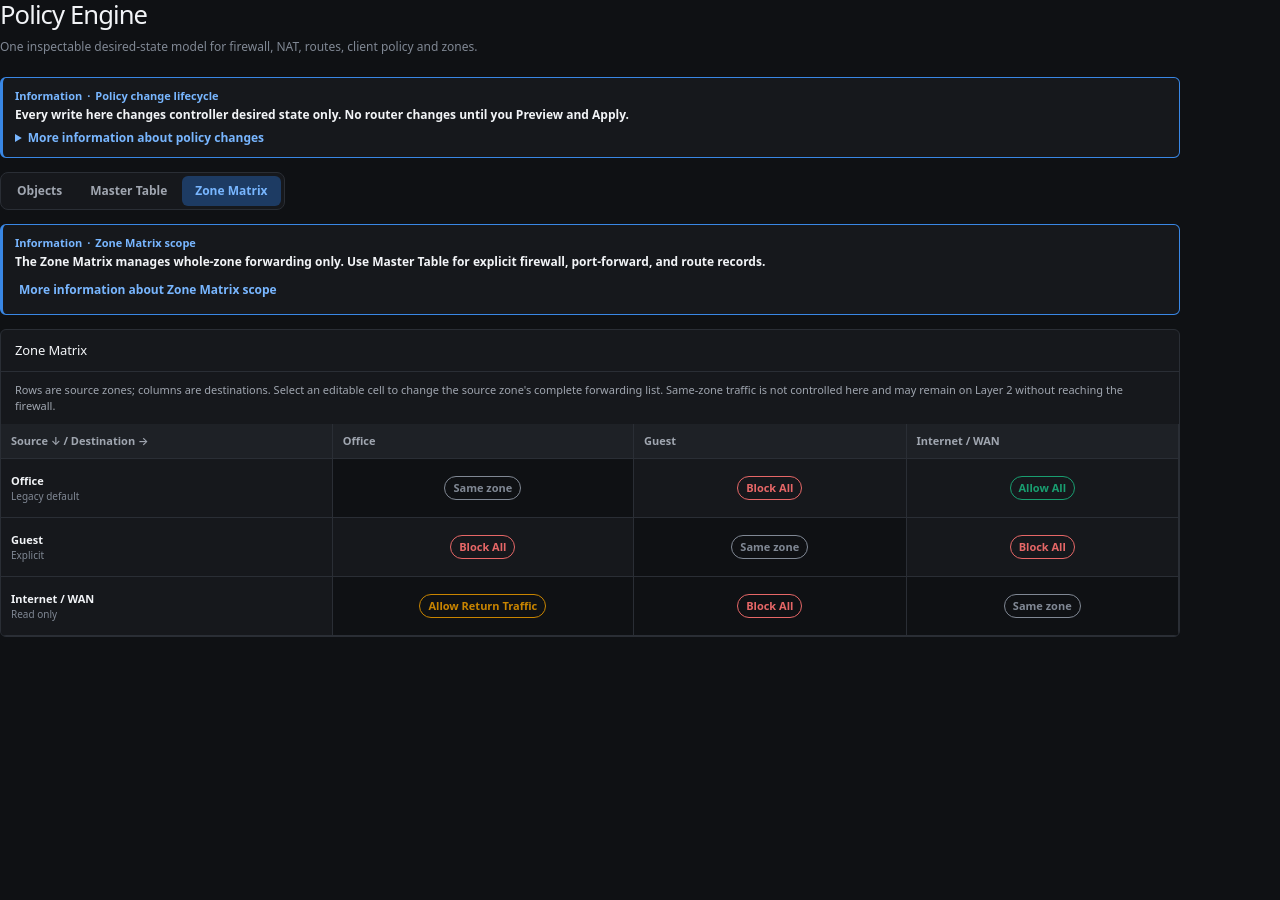
Scenario: Policy Engine › saves the complete source forwarding list from the slide-over
Click the button with aria-label "Office to Guest: Block All. Edit Office policy". click: click(770, 488)
box: [634,459,906,517]
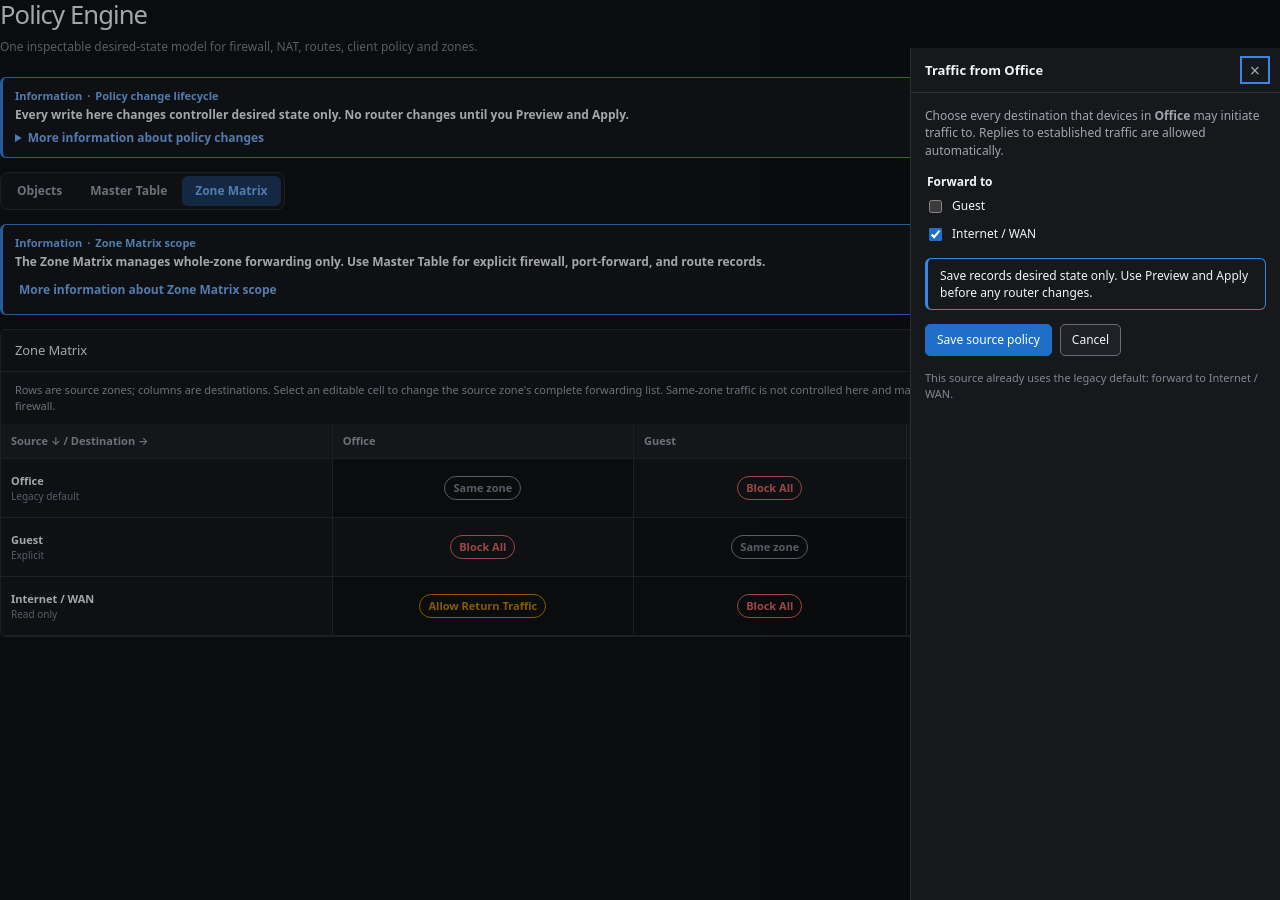
Check: the checkbox labelled "Internet / WAN" is checked, box [929,228,942,241]
Click the checkbox labelled "Guest". click: click(936, 206)
box: [929,200,942,213]
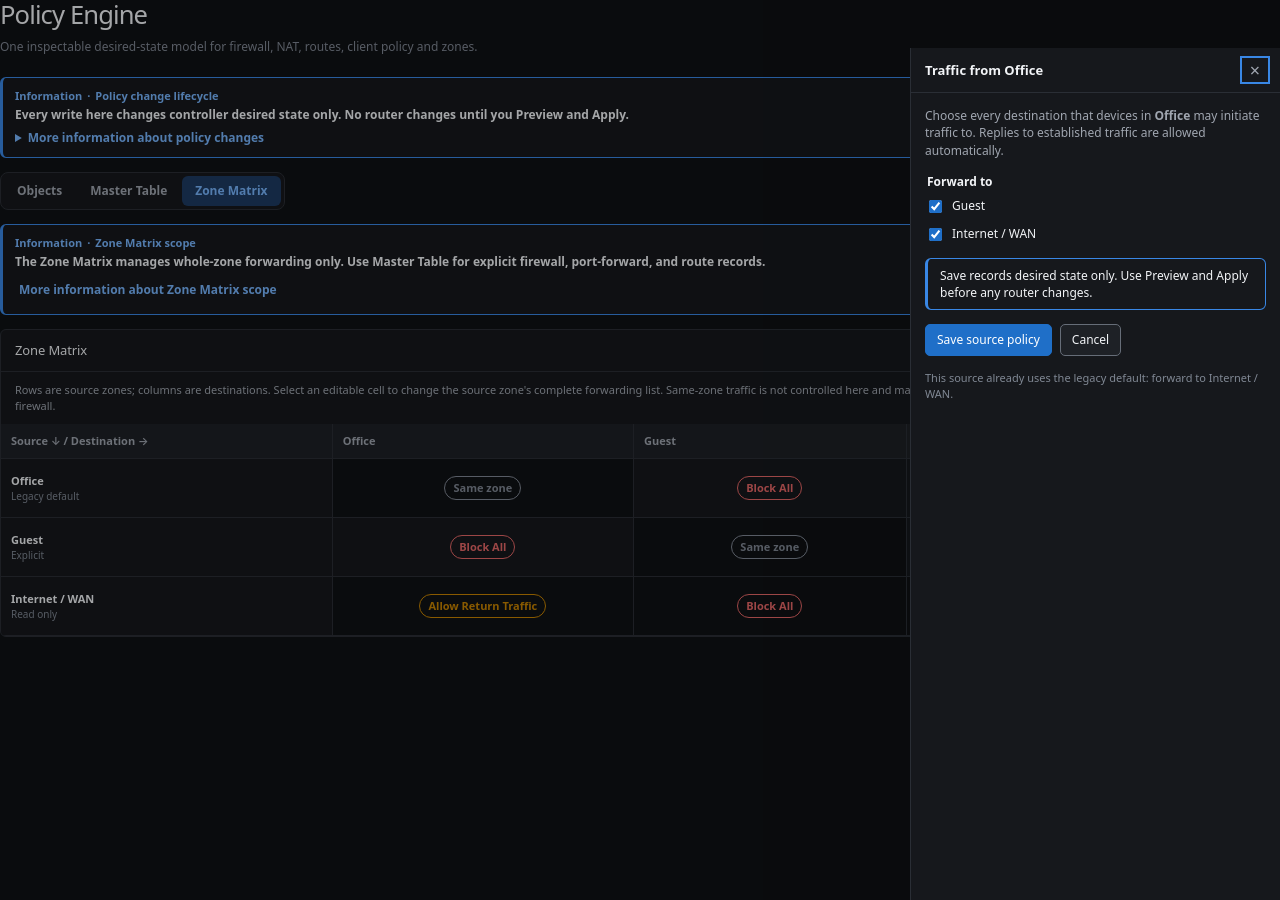
Click the button "Save source policy". click: click(988, 340)
box: [925,324,1052,356]
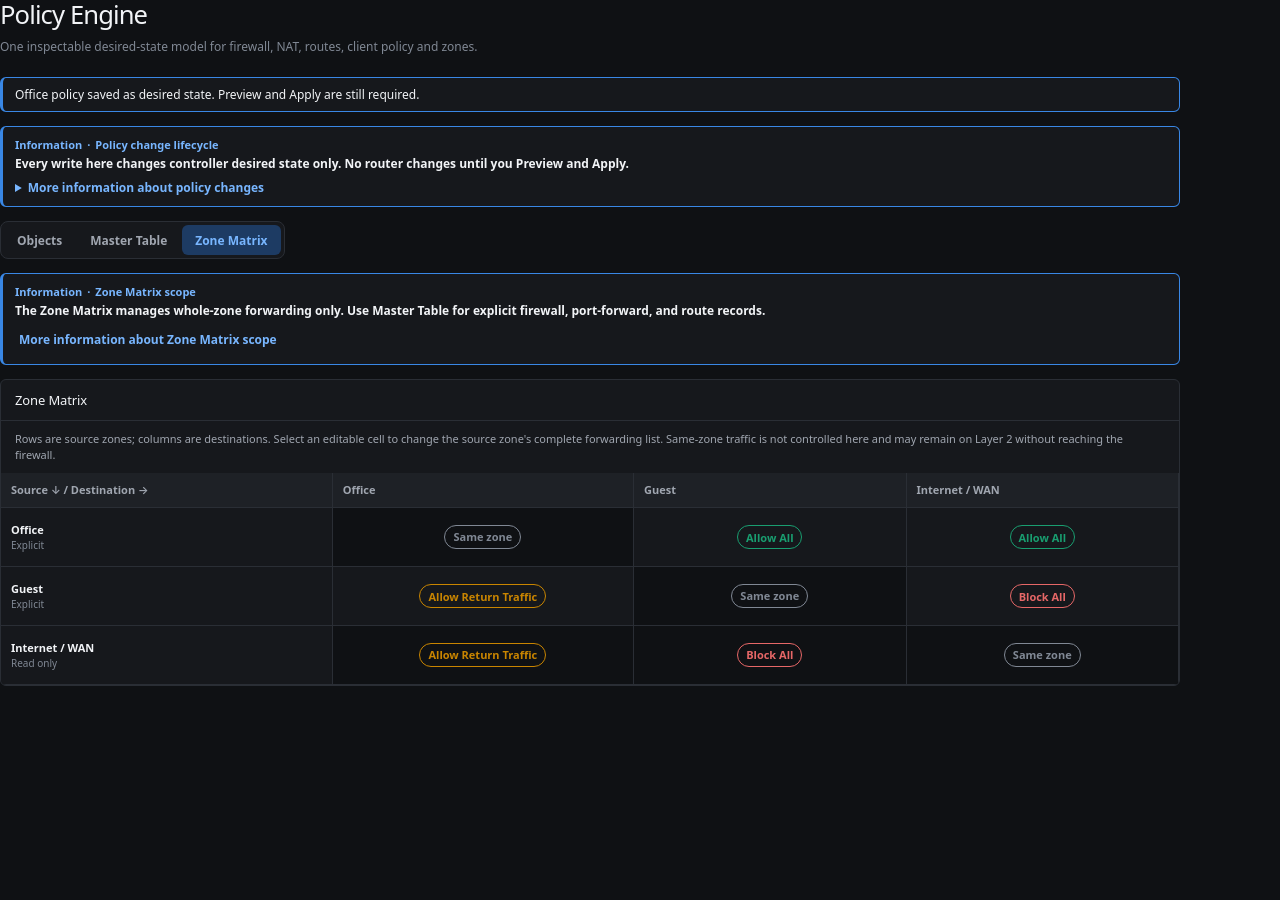
Check: the text "Office policy saved as desired state" is shown, box [15,86,215,103]
Check: the text "Preview and Apply are still required" is shown, box [215,86,419,103]
